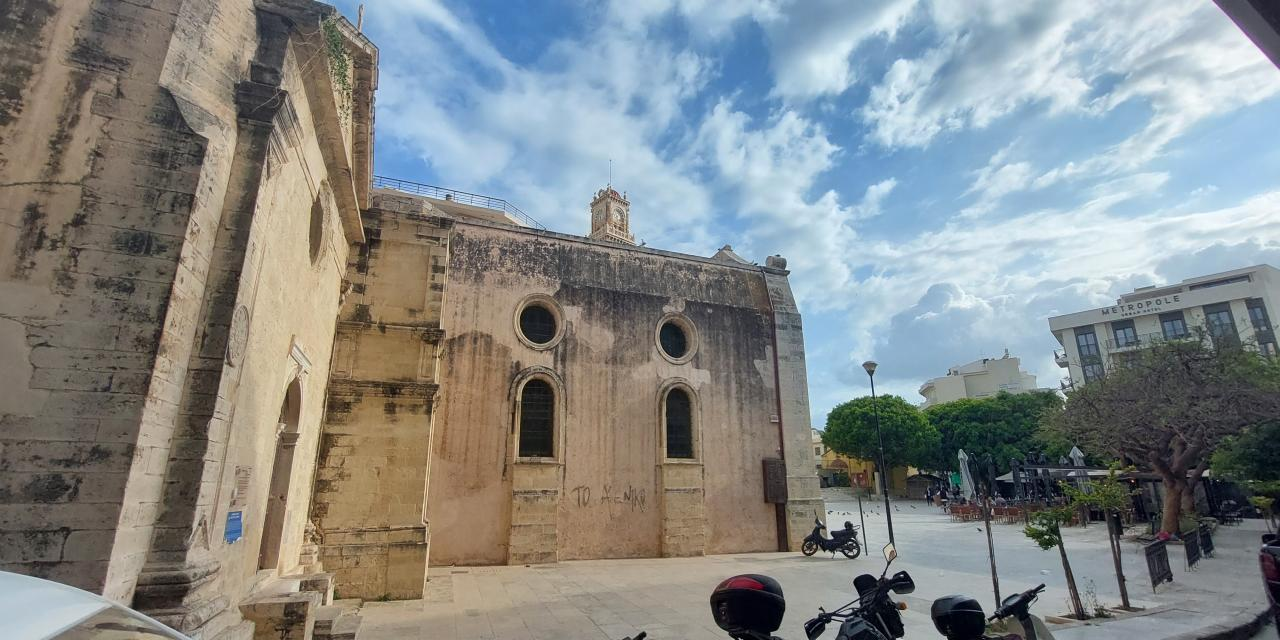Agia Aikaterini: (2, 1, 833, 621)
